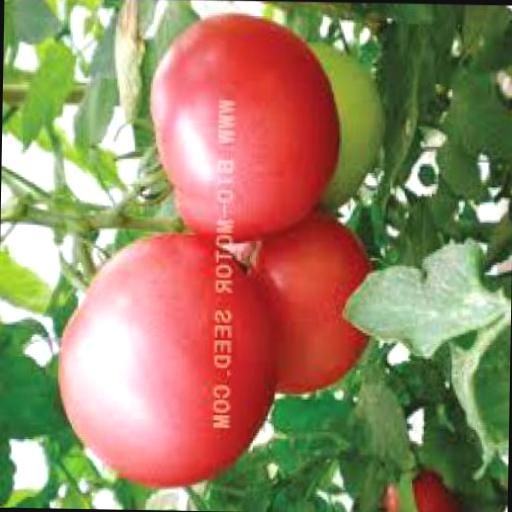biodegradable: (55, 224, 271, 487), (144, 11, 340, 243), (226, 216, 374, 394), (294, 34, 383, 216), (372, 463, 471, 512)
